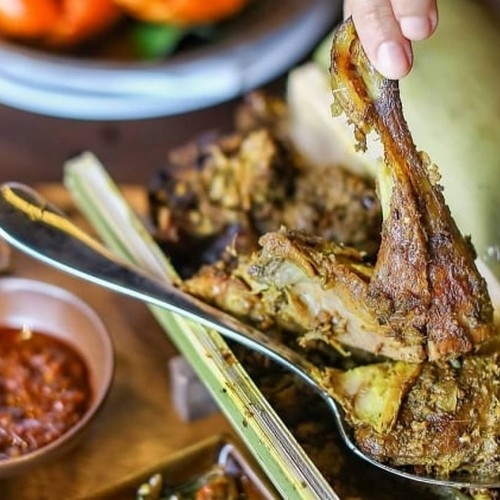bebek timbungan: (207, 43, 499, 367)
